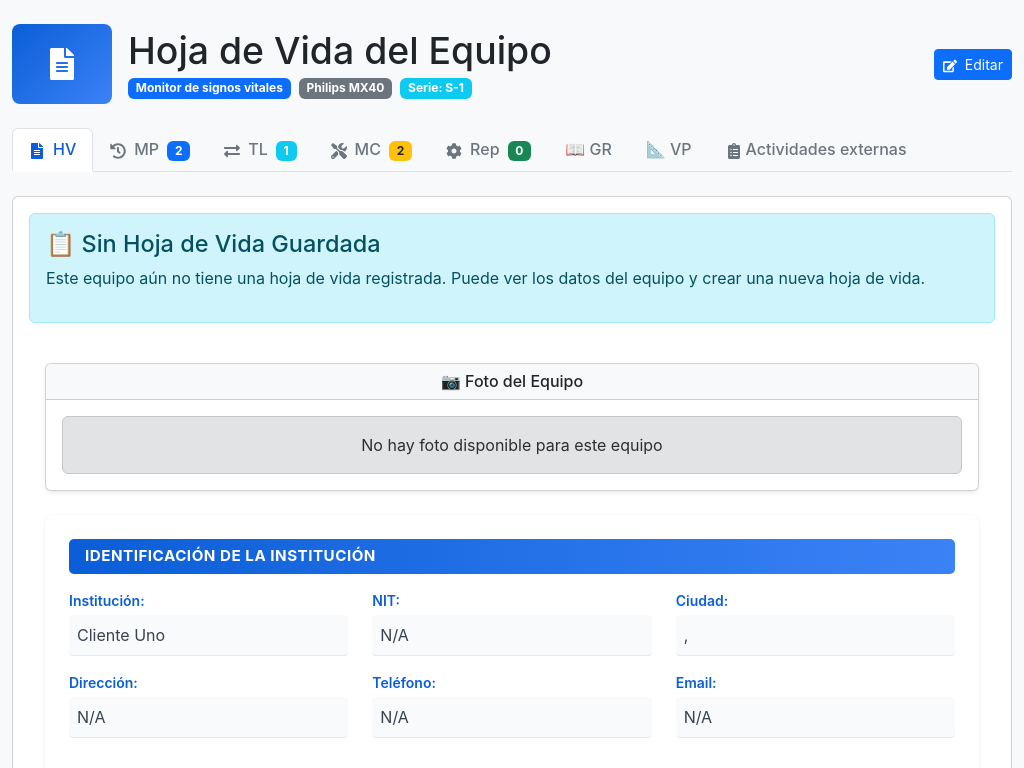
Scenario: HVEquipoPage - MP tab with external services › marks external rows with the Externo badge and the provider, and leaves internal rows as before
Click the tab titled "Mantenimientos Preventivos" at (150, 149), box [93,128,207,170]
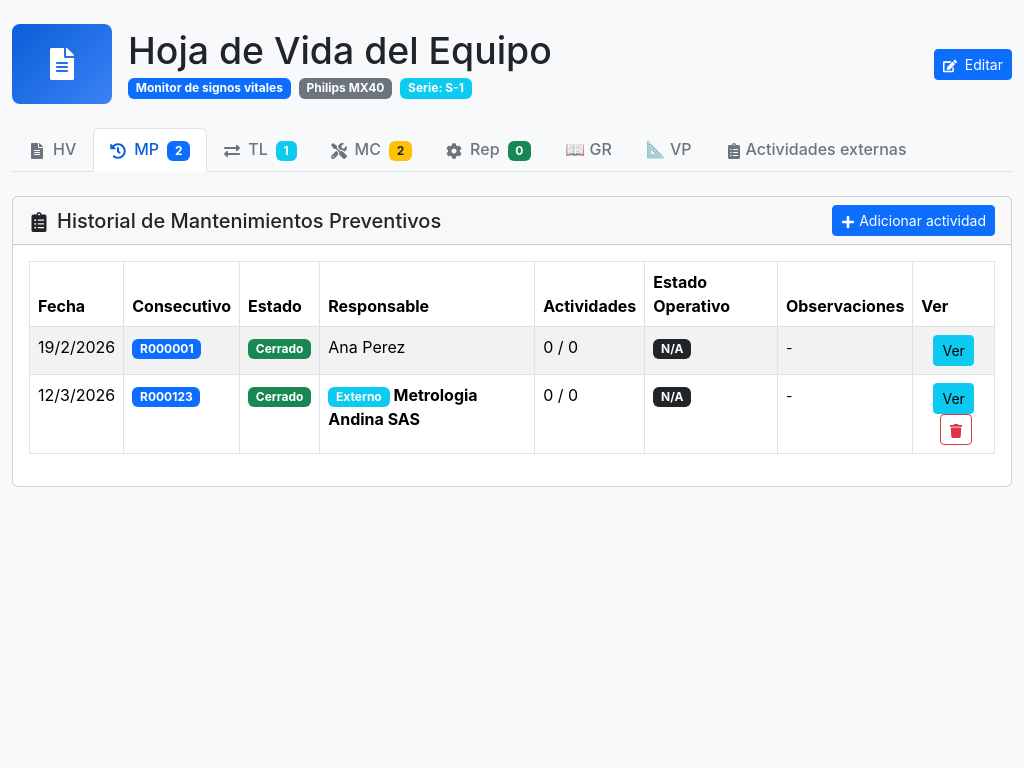
Result: the text "Externo" is shown at [328,387,390,407]
Result: the text "Metrologia Andina SAS" is shown at [328,385,478,429]
Result: the text "Ana Perez" is shown at [320,327,535,375]
